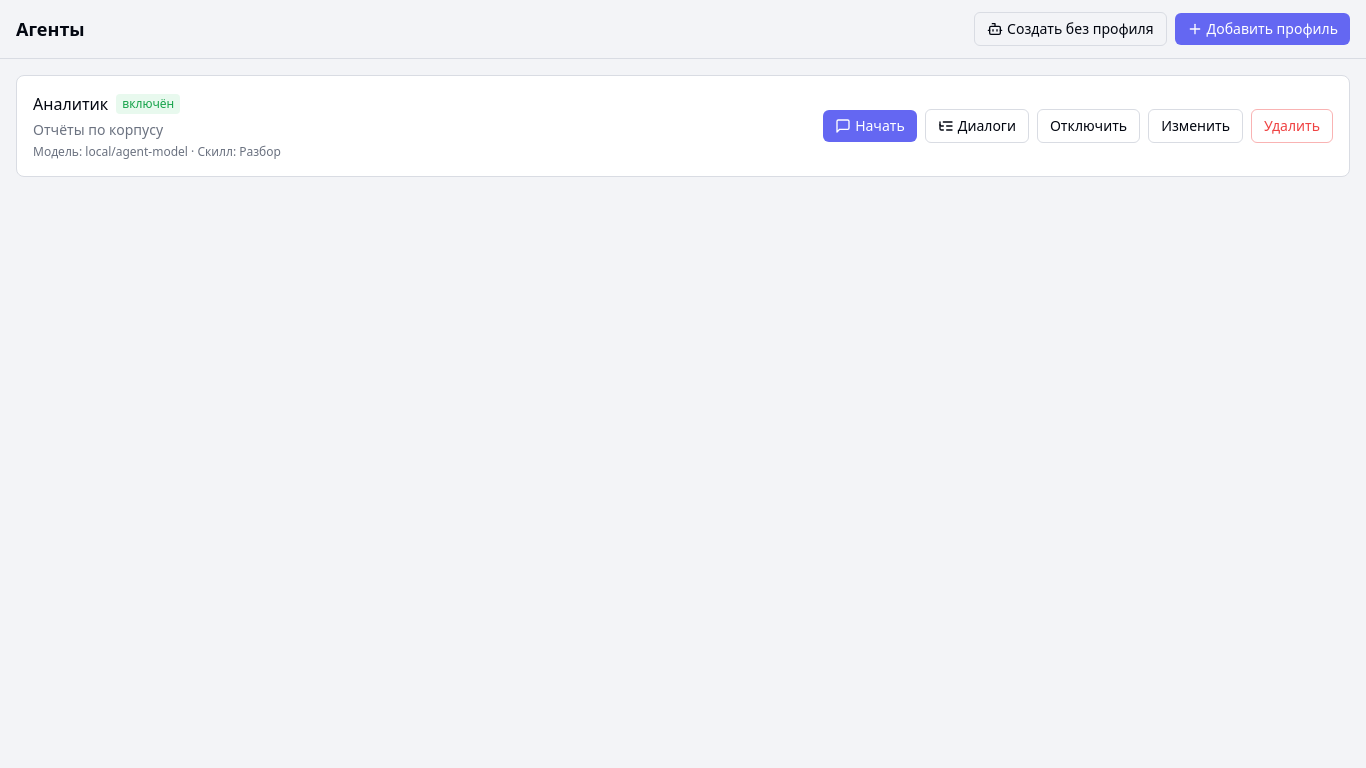
Scenario: AgentProfilesPage › решение 5: drill-down показывает метаданные и расход, чужой заголовок скрыт
This screenshot has width=1366, height=768.
Click the button with test id "agent-profile-drilldown-Аналитик" at (977, 126), box [925,109,1029,143]
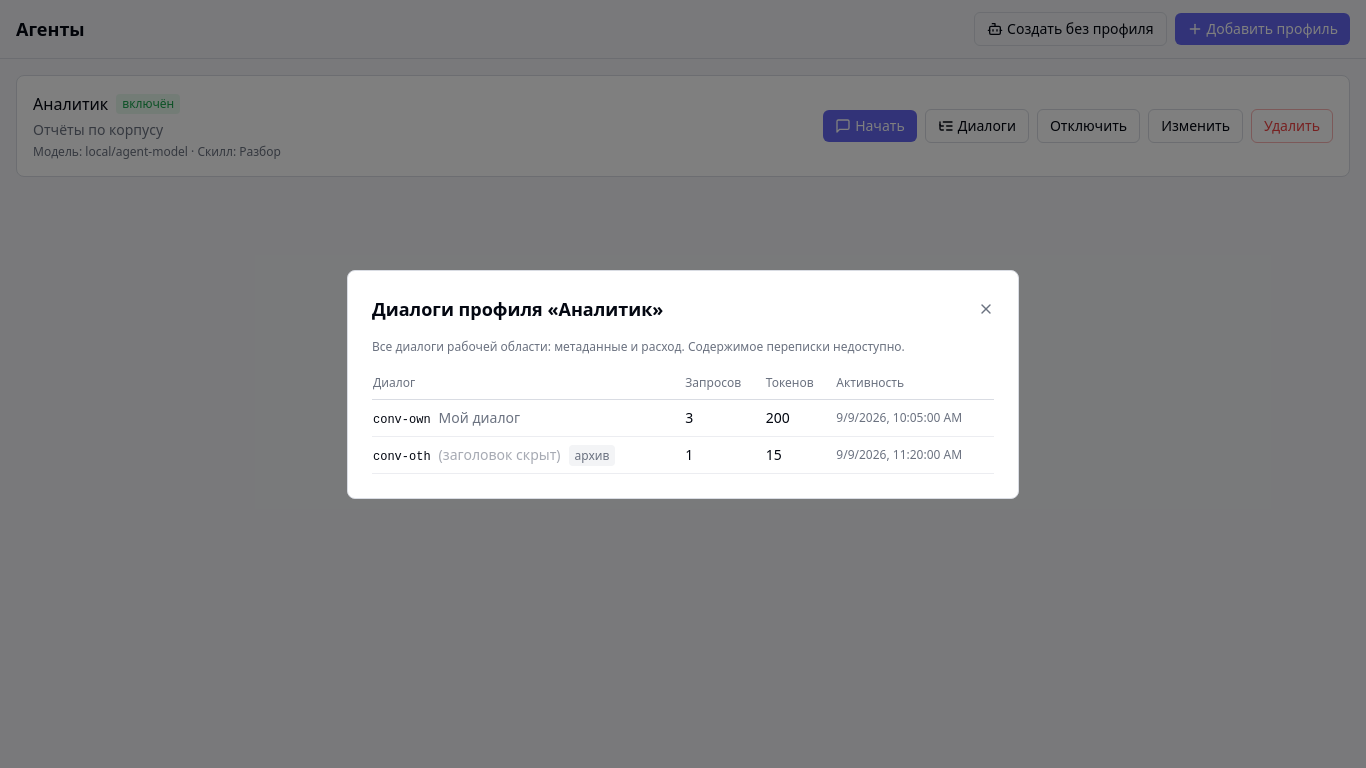
Now the text with test id "agent-profile-drilldown-scope" shows "Все диалоги рабочей области", box [372,338,905,354]
Now the table with test id "agent-profile-drilldown-table" shows "Мой диалог", box [439,408,520,426]
Now the table with test id "agent-profile-drilldown-table" shows "200", box [766,408,790,426]
